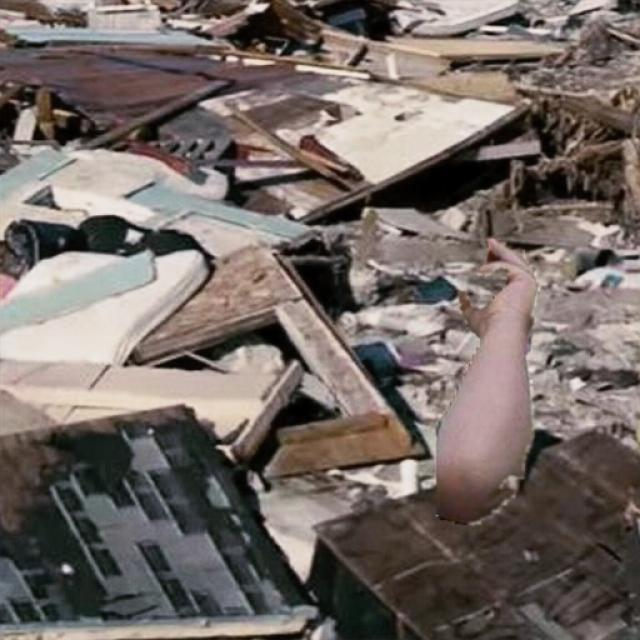Person in Rubble: (436, 238, 539, 524)
